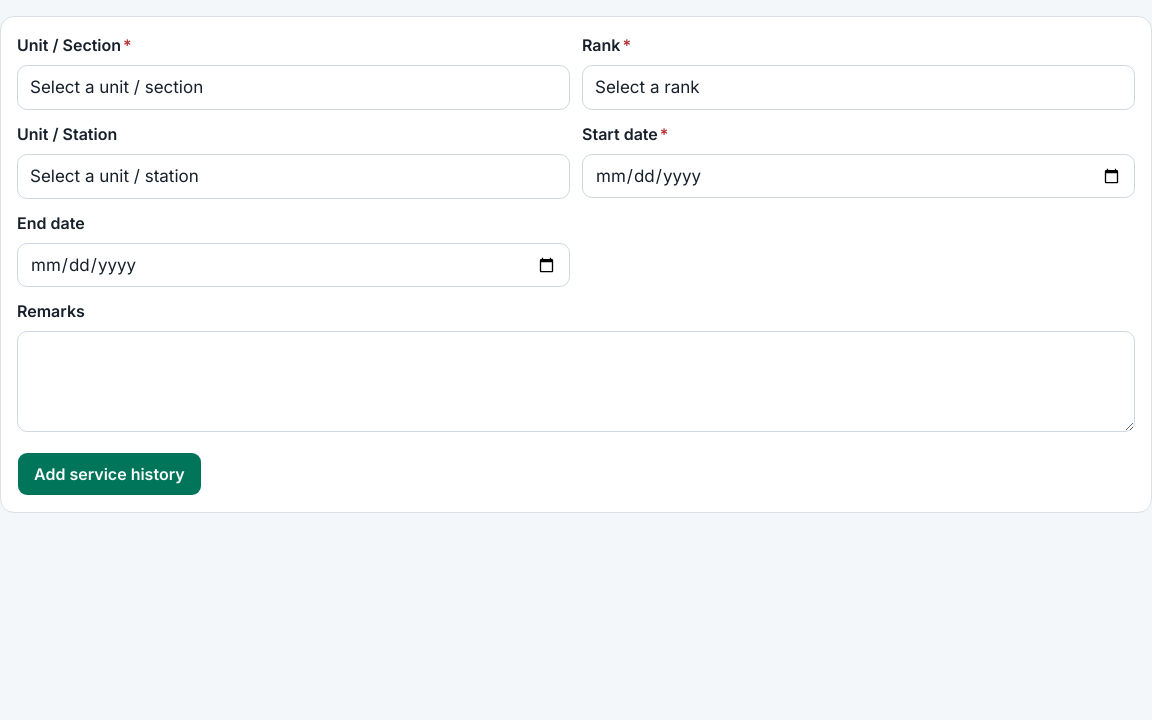
Scenario: RecordEntryForm › requires a unit / section and a rank for service history but not an end date
Type "2025-01-01" into the date field labelled "Start date*". click: (858, 176)
box: [582, 154, 1135, 198]
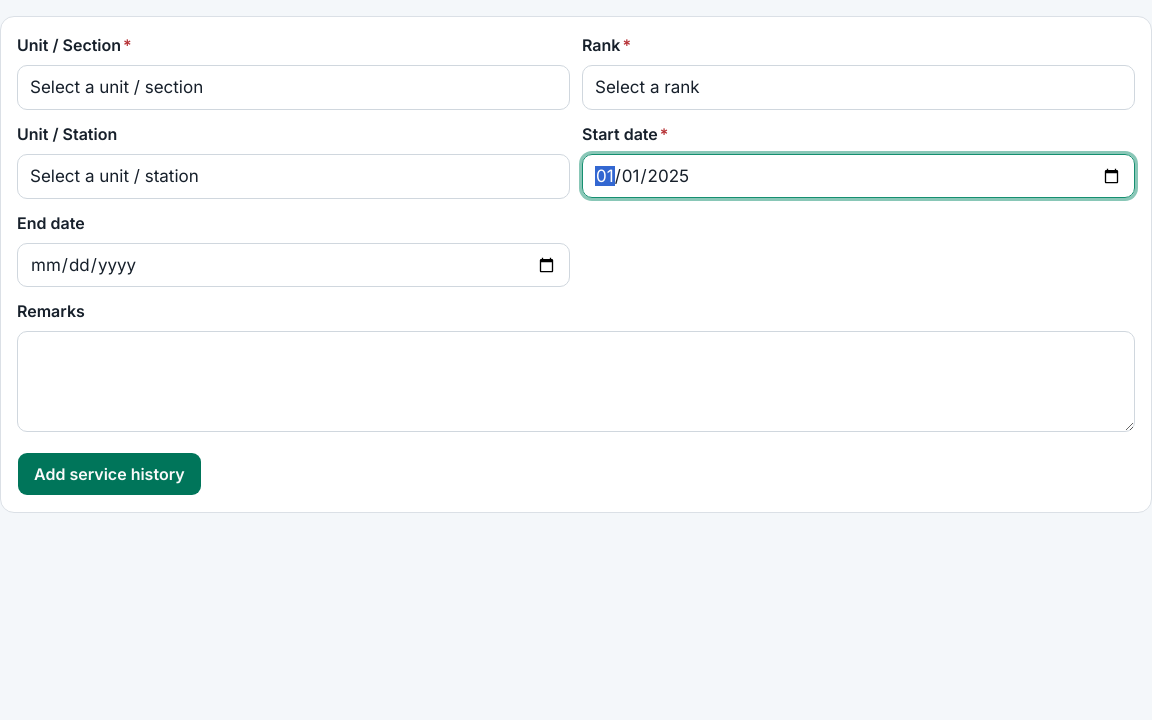
Click the button "Add service history". click: (109, 474)
box: [17, 452, 202, 496]
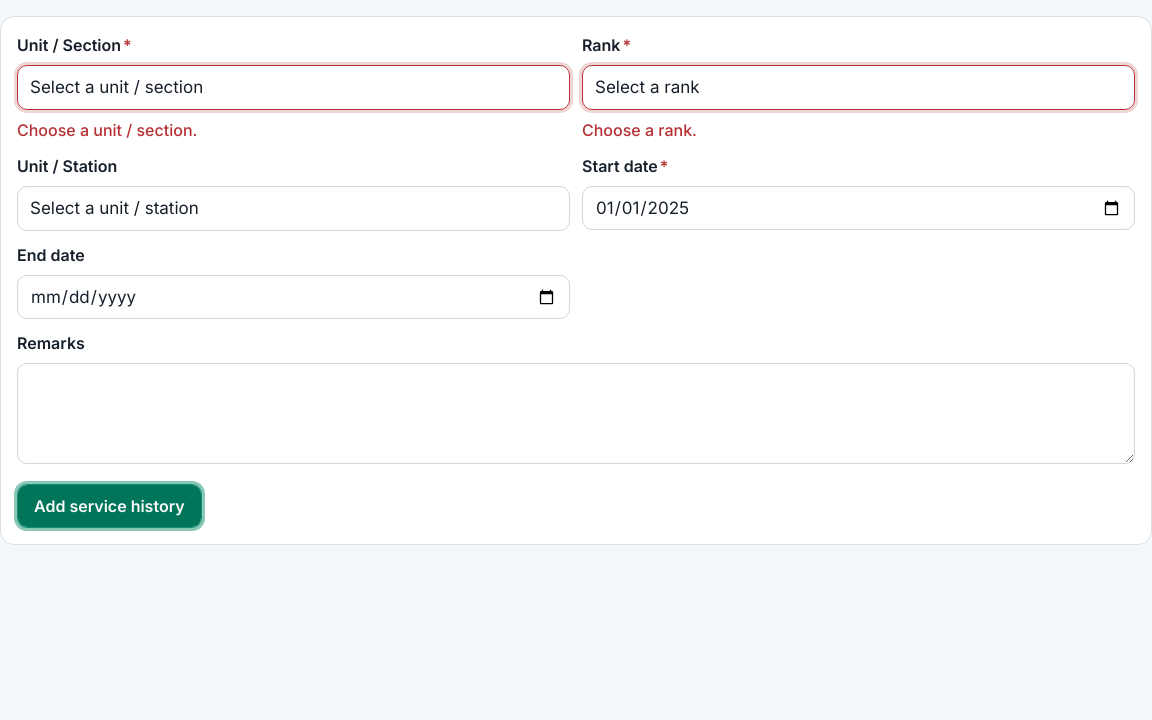
Now the text "Choose a unit / section." is shown, box [17, 120, 197, 140]
Now the text "Choose a rank." is shown, box [582, 120, 697, 140]
